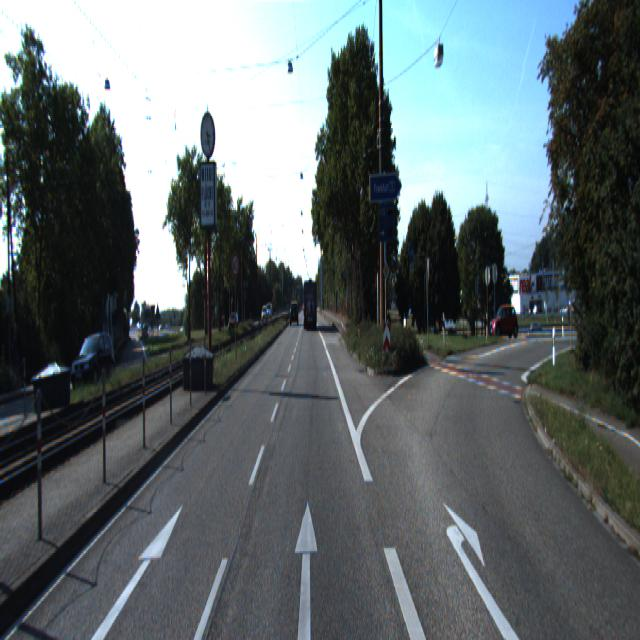Car: (71, 332, 116, 398), (489, 306, 520, 340), (304, 280, 318, 331)
